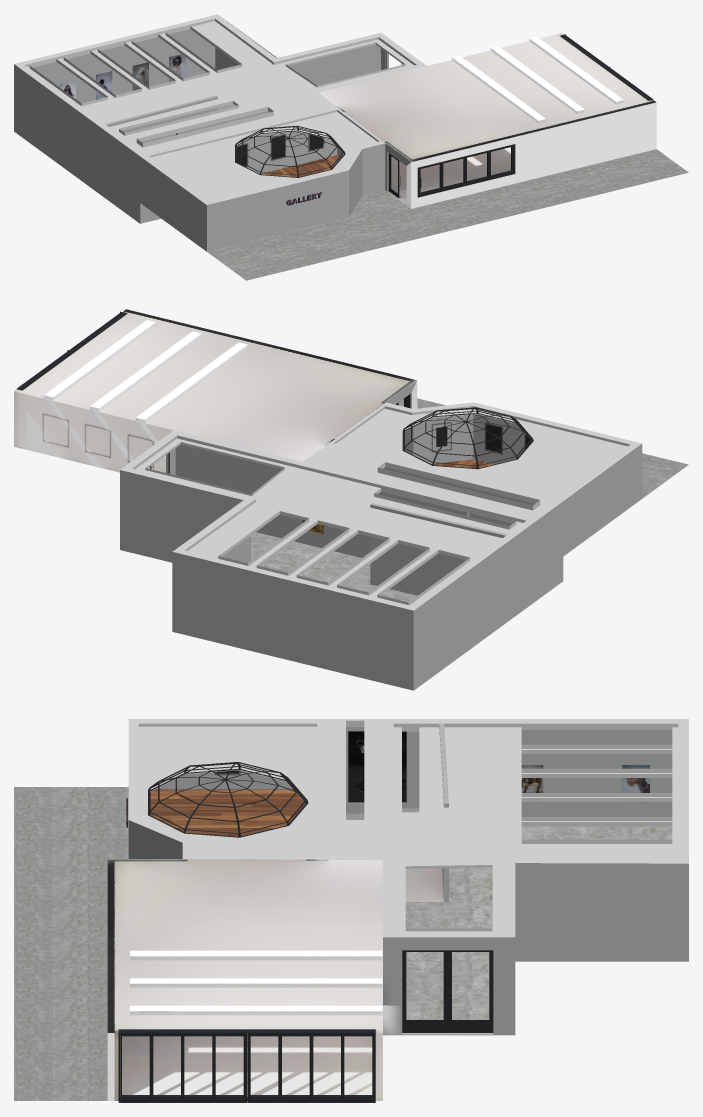
File: art-gallery8.glb
The picture shows the model from 3 angles, top to bottom: view 1: azimuth 30°, elevation 25°; view 2: azimuth 150°, elevation 25°; view 3: azimuth 270°, elevation 25°; orthographic projection. The views are drawn at different scales.
Visible parts, largest first — view 1: Paredes, Teto.001, ParedesPrincipais, Chao_fora, Chao_entrada, LuzesEmission, Todos os quadros, Sphere.002, Janelas_entrada, Chao_madeira; view 2: Paredes, Teto.001, ParedesPrincipais, Chao_inferior, LuzesEmission, Sphere.002, Chao_fora, Todos os quadros; view 3: Teto.001, ParedesPrincipais, Paredes, Chao_fora, Chao_entrada, Chao_inferior, Chao_madeira, LuzesEmission, Janelas, Janelas.001, Sphere.002, Todos os quadros (+1 smaller).
Part boxes in pixels (bbox=[...]): Paredes: bbox=[14, 21, 410, 251]; Teto.001: bbox=[14, 14, 426, 204]; ParedesPrincipais: bbox=[318, 33, 656, 208]; Chao_fora: bbox=[207, 149, 688, 280]; Chao_entrada: bbox=[338, 137, 510, 205]; LuzesEmission: bbox=[452, 36, 623, 120]; Todos os quadros: bbox=[59, 54, 389, 202]; Sphere.002: bbox=[235, 125, 345, 177]; Janelas_entrada: bbox=[417, 144, 515, 197]; Chao_madeira: bbox=[261, 155, 340, 177]; Paredes: bbox=[120, 380, 642, 690]; Teto.001: bbox=[120, 402, 641, 610]; ParedesPrincipais: bbox=[14, 309, 417, 472]; Chao_inferior: bbox=[251, 532, 417, 602]; LuzesEmission: bbox=[44, 320, 247, 419]; Sphere.002: bbox=[402, 407, 533, 469]; Chao_fora: bbox=[374, 398, 688, 498]; Todos os quadros: bbox=[302, 394, 531, 534]; Teto.001: bbox=[128, 719, 688, 937]; ParedesPrincipais: bbox=[107, 859, 382, 1100]; Paredes: bbox=[108, 723, 688, 1035]; Chao_fora: bbox=[14, 787, 128, 1100]; Chao_entrada: bbox=[122, 868, 443, 1100]; Chao_inferior: bbox=[405, 826, 672, 1019]; Chao_madeira: bbox=[150, 789, 305, 836]; LuzesEmission: bbox=[130, 950, 382, 1011]; Janelas: bbox=[247, 1029, 375, 1102]; Janelas.001: bbox=[118, 1029, 246, 1102]; Sphere.002: bbox=[148, 762, 308, 837]; Todos os quadros: bbox=[126, 731, 649, 818].
Size of what is drawn, in the model's own units: 62.24 by 11.01 by 56.35.
30 materials, 18 textured.
